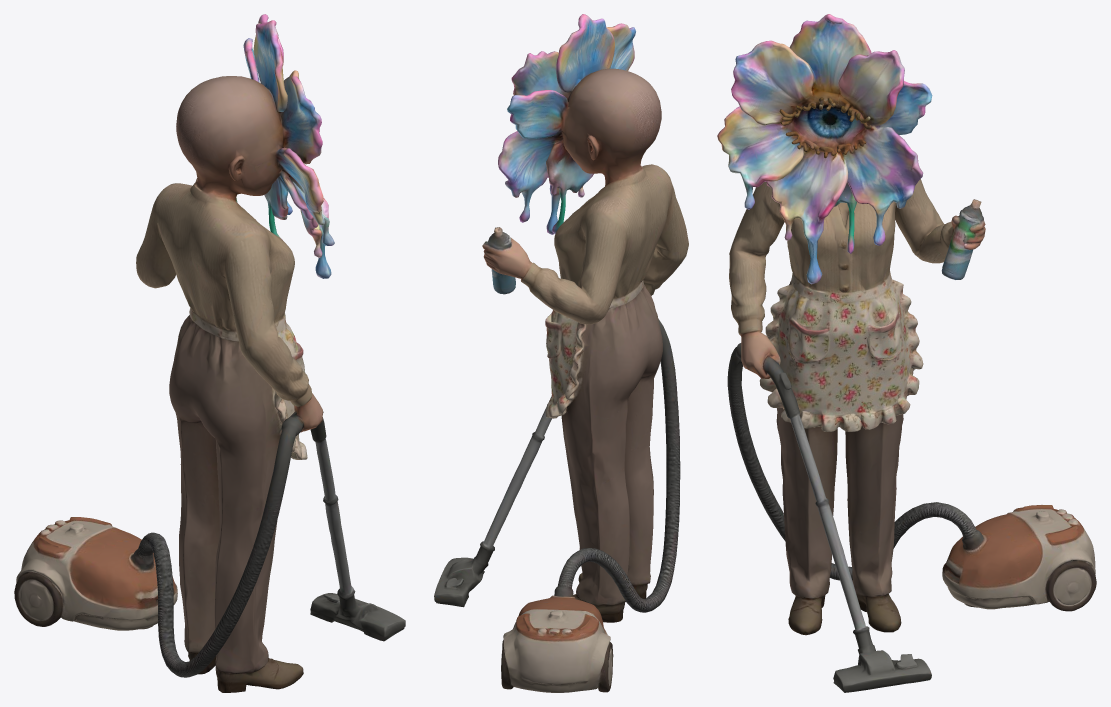
Rendered from felix.glb.
3 renders of one model, left to right at view 1: azimuth 30°, elevation 25°; view 2: azimuth 150°, elevation 25°; view 3: azimuth 270°, elevation 25°, orthographic. The views are drawn at different scales.
Visible parts, largest first — view 1: tripo_node_8ef0ef63-db6b-456c-9195-0d16e5945203; view 2: tripo_node_8ef0ef63-db6b-456c-9195-0d16e5945203; view 3: tripo_node_8ef0ef63-db6b-456c-9195-0d16e5945203.
Part boxes in pixels (x1,y1,x2,y2): tripo_node_8ef0ef63-db6b-456c-9195-0d16e5945203: [14, 14, 405, 692]; tripo_node_8ef0ef63-db6b-456c-9195-0d16e5945203: [434, 14, 688, 692]; tripo_node_8ef0ef63-db6b-456c-9195-0d16e5945203: [717, 14, 1096, 692].
Bounding box in the file's own units: 0.4553 × 1 × 0.5574.
1 material, 1 textured.
